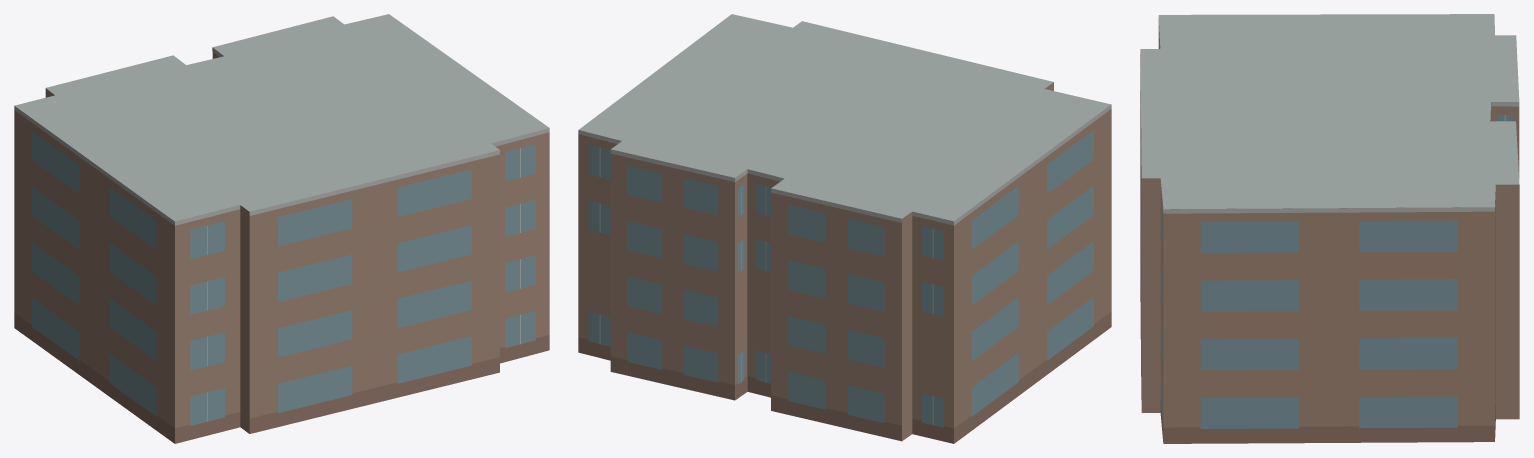
File: survey-upis-32953757.glb
The picture shows the model from 3 angles, left to right: view 1: azimuth 30°, elevation 25°; view 2: azimuth 150°, elevation 25°; view 3: azimuth 270°, elevation 25°; orthographic projection. The views are drawn at different scales.
Visible parts, largest first — view 1: survey-upis-32953757.tmp; view 2: survey-upis-32953757.tmp; view 3: survey-upis-32953757.tmp.
Part boxes in pixels (<box>): survey-upis-32953757.tmp: <box>14,14,549,443</box>; survey-upis-32953757.tmp: <box>578,14,1111,443</box>; survey-upis-32953757.tmp: <box>1140,14,1519,443</box>.
Bounding box in the file's own units: 22.83 × 12.8 × 18.75.
